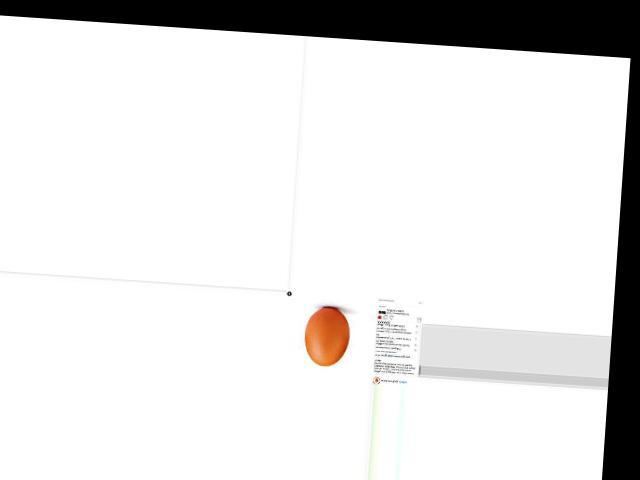egg: (303, 306, 351, 366)
